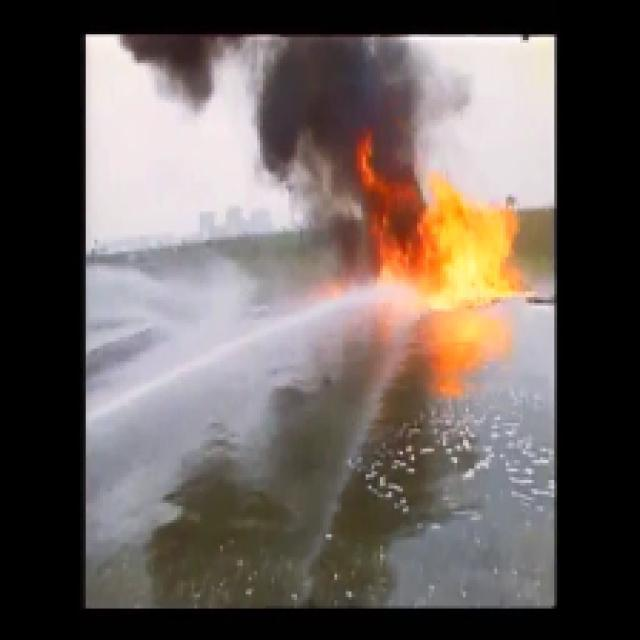Fire: (377, 193, 518, 292)
Smoke: (270, 39, 412, 152)
